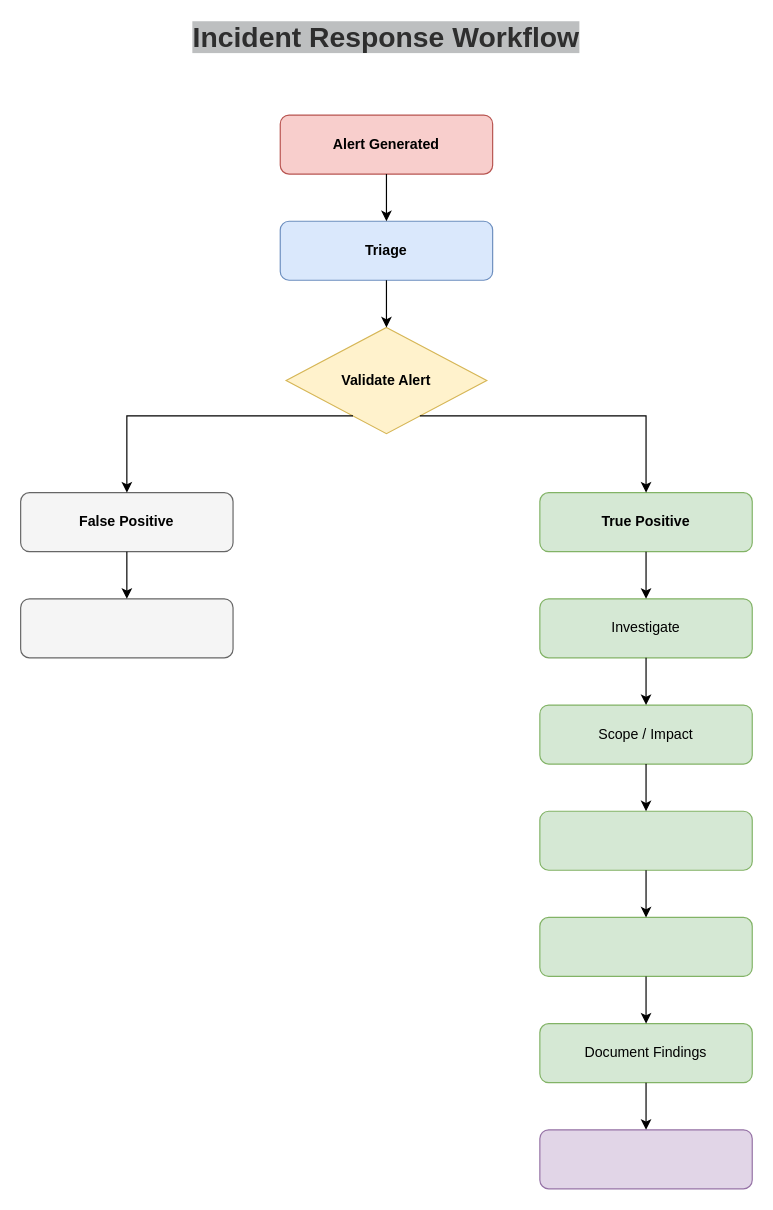
This 773x1210 diagram has some shape labels left out. Here are the shapes that lost their labels. From the top down, the centre of each, then its label:
At (x=126, y=628): "Document".
At (x=645, y=840): "Respond".
At (x=645, y=946): "Remediation".
At (x=645, y=1159): "Lessons Learned".
